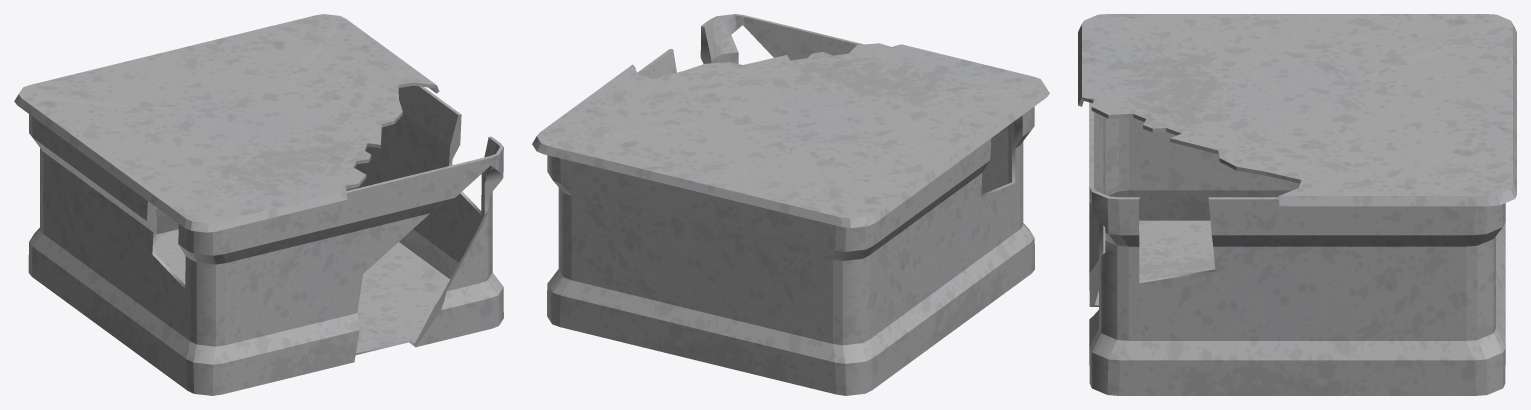
The model's file is Box_Of_Water_02 Broken.fbx.
3 views of the same model, side by side, from view 1: azimuth 30°, elevation 25°; view 2: azimuth 150°, elevation 25°; view 3: azimuth 270°, elevation 25° (orthographic). The views are drawn at different scales.
Parts seen in each view (by area): view 1: Box_Of_Water_02 Broken, Cover_Box_Of_Water_02 Broken; view 2: Box_Of_Water_02 Broken, Cover_Box_Of_Water_02 Broken; view 3: Box_Of_Water_02 Broken, Cover_Box_Of_Water_02 Broken.
Part boxes in pixels (x1,y1,x2,y2): Box_Of_Water_02 Broken: [28, 85, 503, 395]; Cover_Box_Of_Water_02 Broken: [14, 14, 439, 232]; Box_Of_Water_02 Broken: [547, 14, 1034, 395]; Cover_Box_Of_Water_02 Broken: [532, 43, 1049, 228]; Box_Of_Water_02 Broken: [1089, 102, 1505, 395]; Cover_Box_Of_Water_02 Broken: [1078, 14, 1516, 206].
Size of the model in its own units: 206 by 105 by 206.
